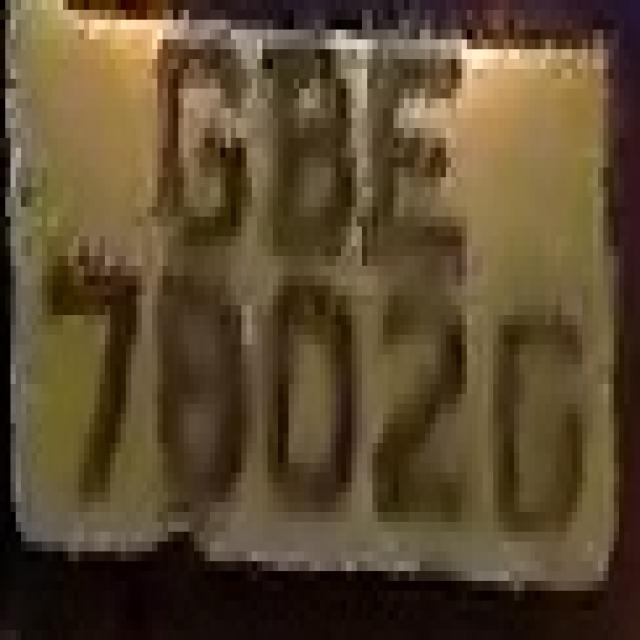0: (257, 236, 367, 552)
2: (352, 266, 478, 551)
7: (31, 216, 147, 542)
8: (136, 256, 257, 532)
B: (257, 20, 362, 256)
E: (362, 19, 467, 286)
G: (488, 256, 593, 581), (147, 20, 246, 266)
